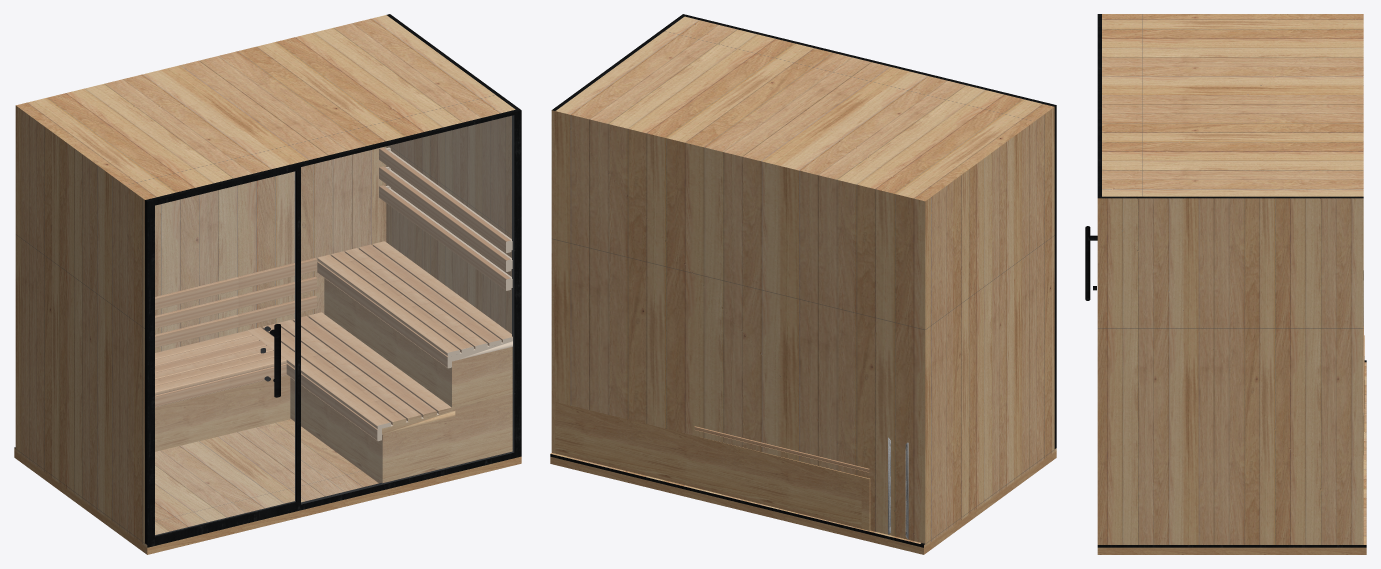
File: modelo.glb
The picture shows the model from 3 angles, left to right: view 1: azimuth 30°, elevation 25°; view 2: azimuth 150°, elevation 25°; view 3: azimuth 270°, elevation 25°; orthographic projection.
Parts seen in each view (by area): view 1: Geom3D (×16), Geom3D_; view 2: Geom3D (×5), Geom3D_; view 3: Geom3D (×3), Geom3D_.
Boxes of the visible parts, x1,y1,x2,y2 form: Geom3D (×16): (14, 14, 521, 547); Geom3D_: (14, 451, 521, 554); Geom3D (×5): (550, 14, 1056, 547); Geom3D_: (550, 451, 1056, 554); Geom3D (×3): (1085, 14, 1366, 547); Geom3D_: (1097, 547, 1366, 554).
Size of the model in its own units: 2.74 by 2.47 by 1.76.
16 materials, 12 textured.
